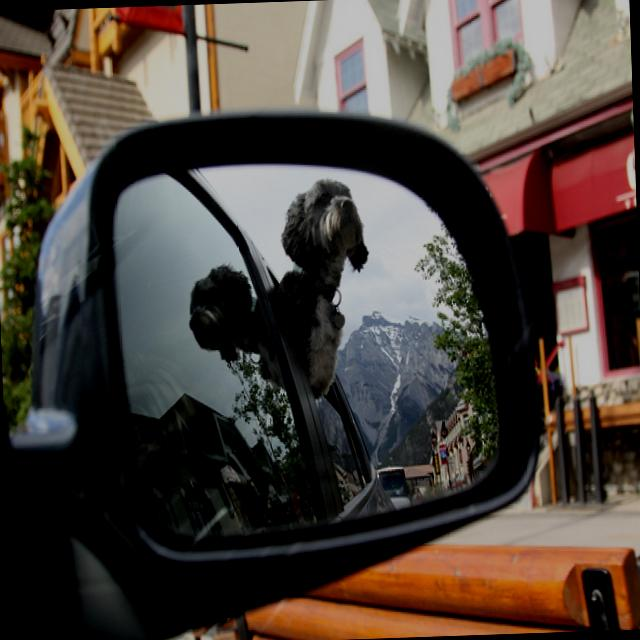Vehicle: (0, 102, 553, 640), (376, 466, 410, 510)
